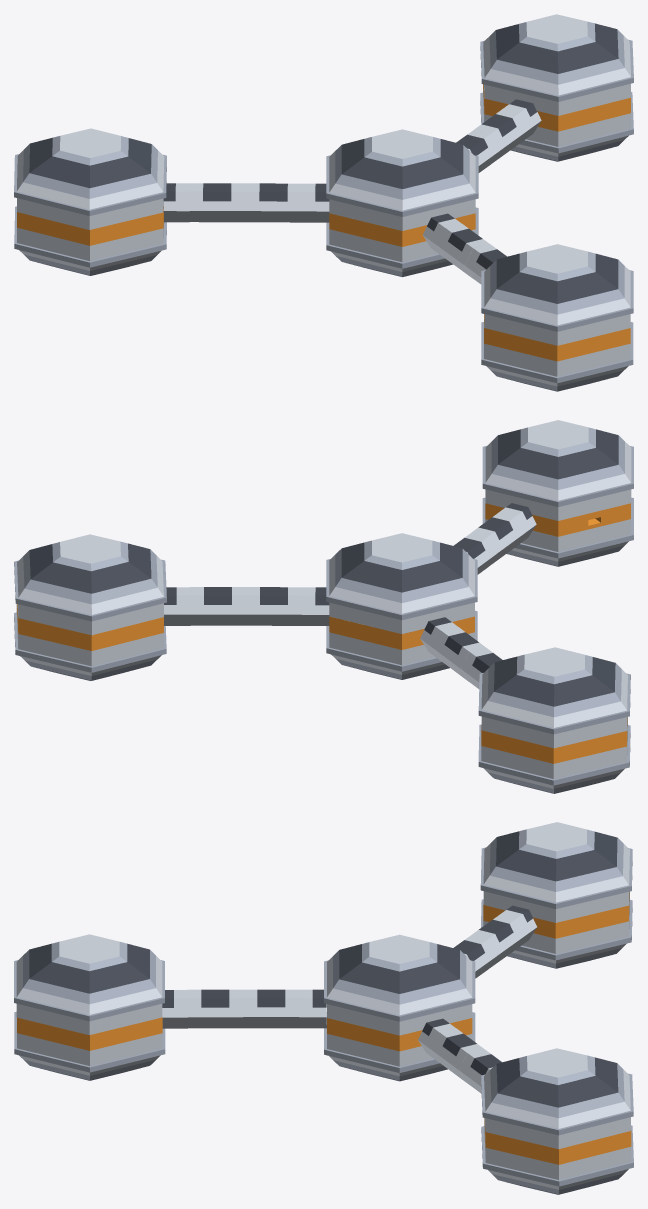
The model's file is station2.obj.
3 renders of one model, top to bottom at view 1: azimuth 30°, elevation 25°; view 2: azimuth 150°, elevation 25°; view 3: azimuth 270°, elevation 25°, orthographic.
Visible parts, largest first — view 1: hangar_roundB.001_hangar_roundB.019; view 2: hangar_roundB.001_hangar_roundB.019; view 3: hangar_roundB.001_hangar_roundB.019.
Part boxes in pixels (x1,y1,x2,y2): hangar_roundB.001_hangar_roundB.019: (14, 14, 633, 391); hangar_roundB.001_hangar_roundB.019: (14, 420, 633, 793); hangar_roundB.001_hangar_roundB.019: (14, 822, 633, 1194).
Bounding box in the file's own units: 12.67 × 2.31 × 11.07.
